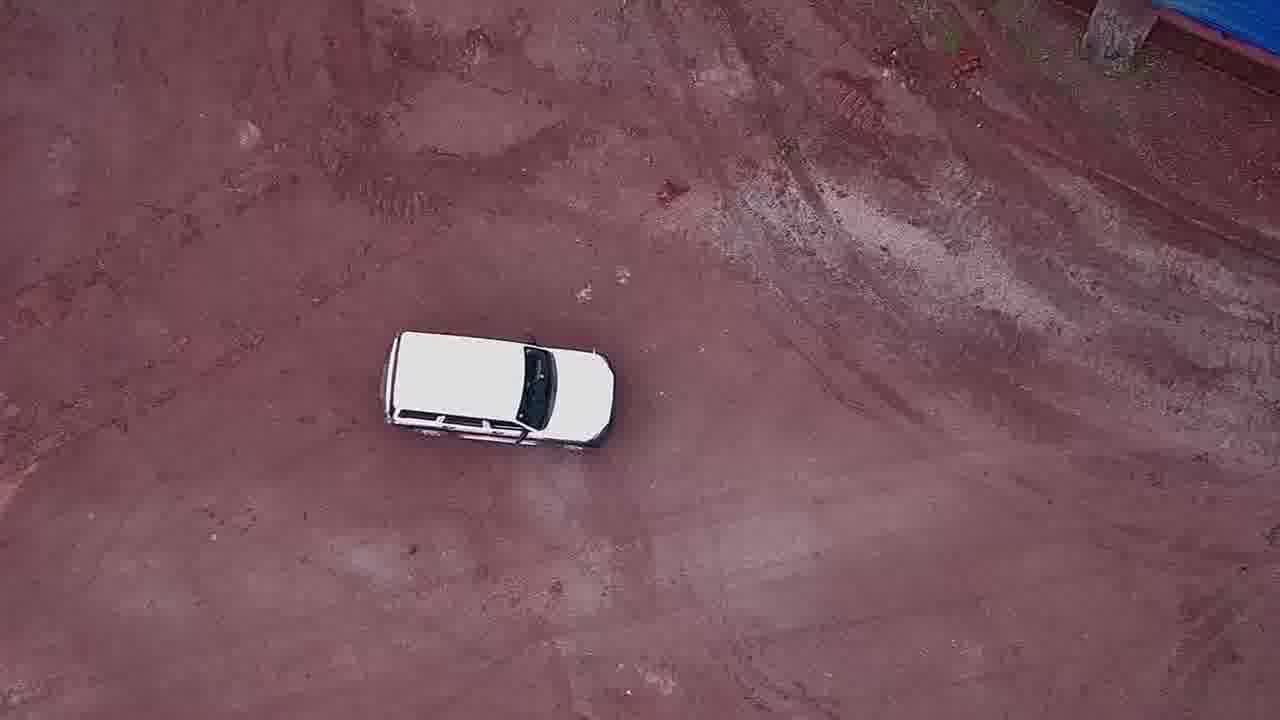light_motor_vehicle: (376, 329, 621, 447)
